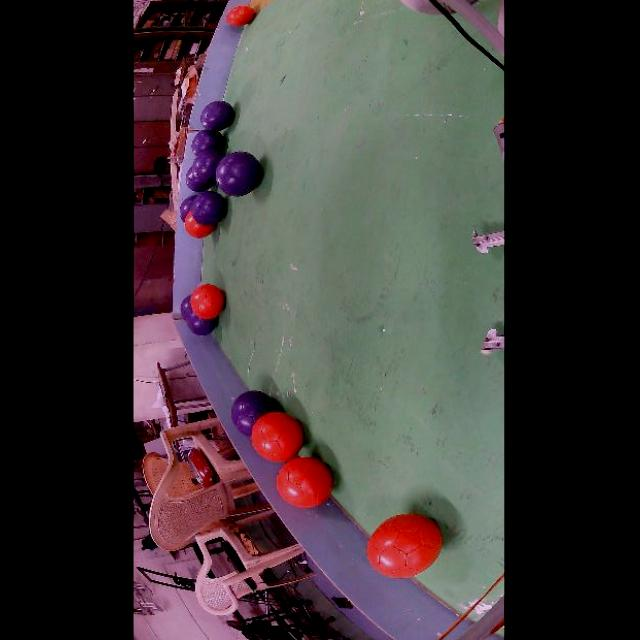P: (231, 390, 276, 437), (215, 152, 262, 197), (179, 295, 218, 336), (191, 190, 227, 227), (192, 149, 224, 184), (200, 100, 235, 131), (191, 130, 224, 156), (184, 167, 214, 193), (179, 196, 196, 221)
R: (366, 514, 442, 578), (276, 456, 333, 508), (250, 411, 303, 461), (189, 285, 224, 319), (184, 211, 215, 238), (226, 6, 255, 25)
